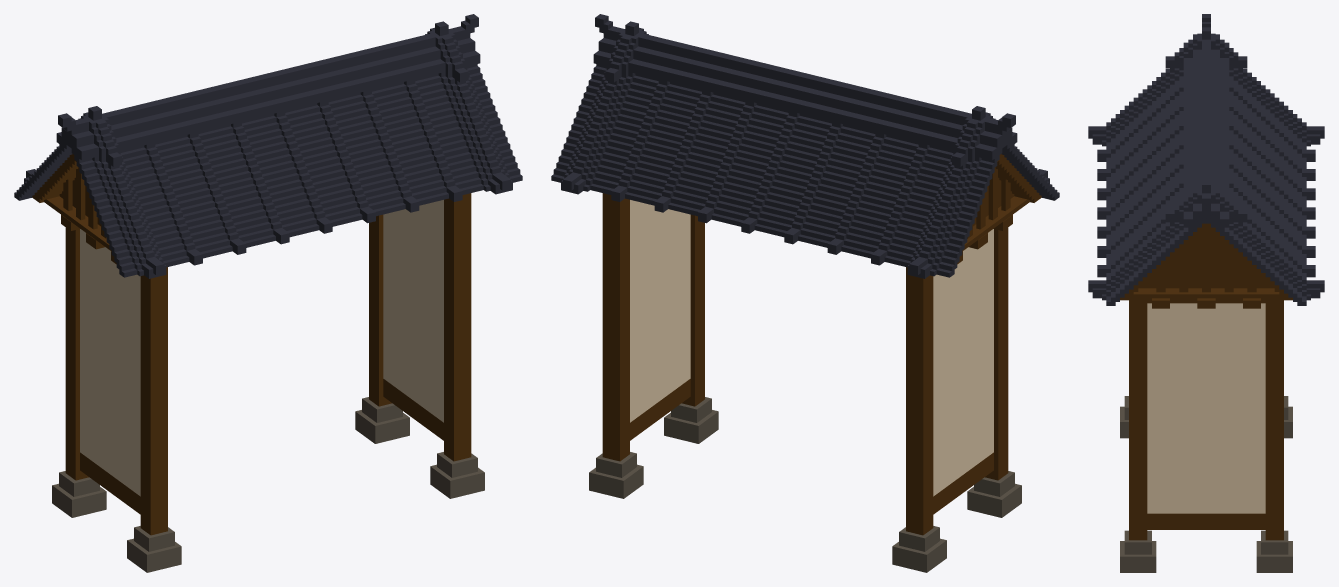
File: Korean_door_01.FBX
The picture shows the model from 3 angles, left to right: view 1: azimuth 30°, elevation 25°; view 2: azimuth 150°, elevation 25°; view 3: azimuth 270°, elevation 25°; orthographic projection. The views are drawn at different scales.
Parts seen in each view (by area): view 1: Voxel_Korean_traditional village-040; view 2: Voxel_Korean_traditional village-040; view 3: Voxel_Korean_traditional village-040.
Boxes of the visible parts, bbox=[...] form: Voxel_Korean_traditional village-040: bbox=[14, 14, 522, 572]; Voxel_Korean_traditional village-040: bbox=[551, 14, 1059, 572]; Voxel_Korean_traditional village-040: bbox=[1088, 14, 1324, 572].
Bounding box in the file's own units: 95.98 × 94.98 × 51.99.
1 material, 1 textured.
